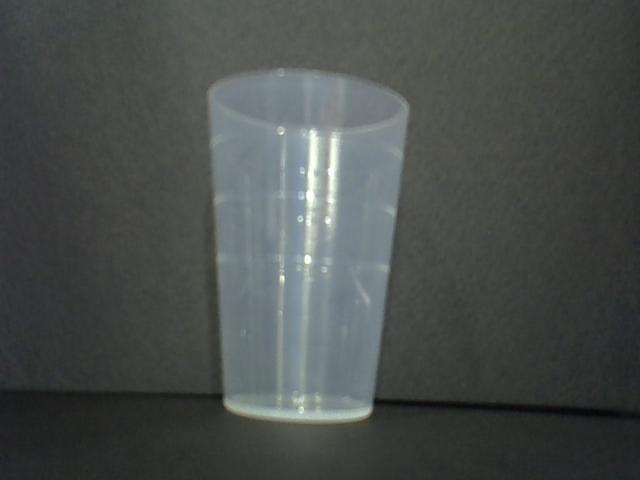cup: (204, 66, 413, 433)
